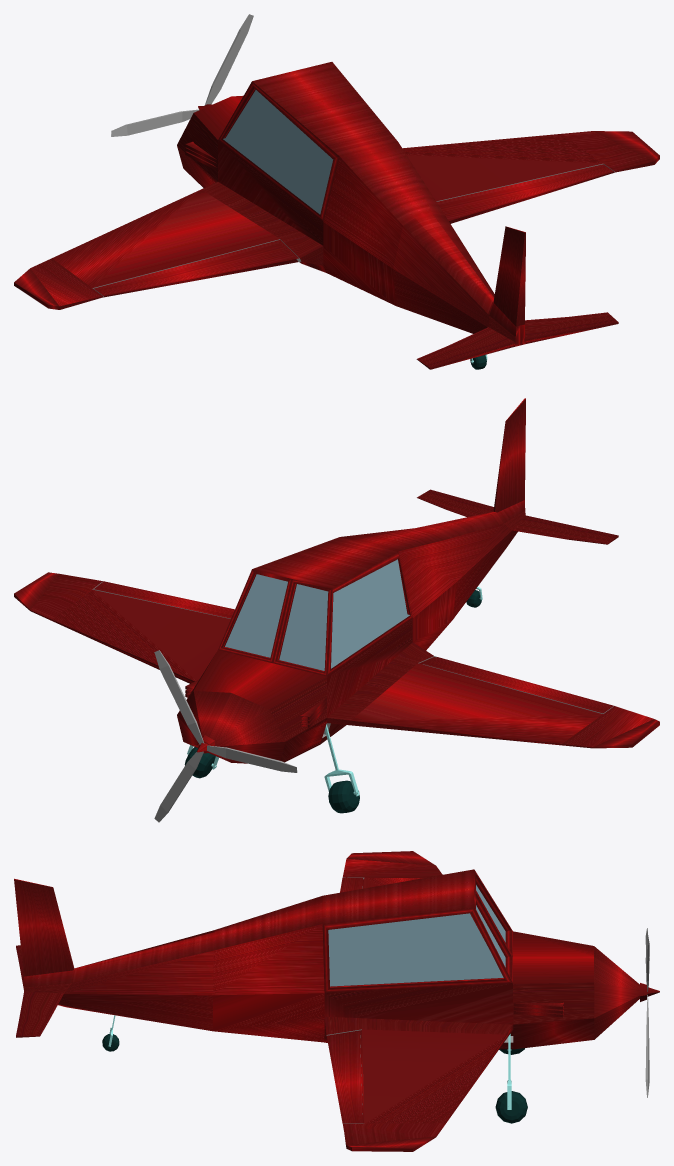
File: avion.obj
The picture shows the model from 3 angles, top to bottom: view 1: azimuth 30°, elevation 25°; view 2: azimuth 150°, elevation 25°; view 3: azimuth 270°, elevation 25°; orthographic projection.
Visible parts, largest first — view 1: Cube_2, Cube:1, Cube:0; view 2: Cube_2, Cube:1, Cube:0, Cube:2, Wheel_2; view 3: Cube_2, Wheel_1.
Part boxes in pixels (x1,y1,x2,y2): Cube_2: (14,62,659,369); Cube:1: (204,14,253,105); Cube:0: (111,109,199,136); Cube_2: (14,398,659,763); Cube:1: (154,650,204,744); Cube:0: (207,745,297,772); Cube:2: (154,751,203,822); Wheel_2: (328,780,359,813); Cube_2: (14,851,639,1151); Wheel_1: (495,1091,527,1123).
Bounding box in the file's own units: 16.24 × 5.32 × 14.9.
